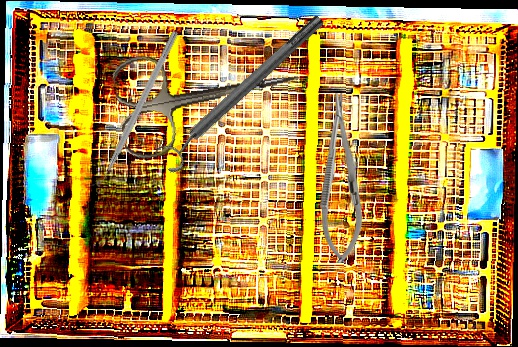Chopper: (85, 25, 180, 194)
Fixation Ring: (151, 7, 333, 177)
Iris Scissors: (110, 29, 308, 162)
Needle Holder: (318, 92, 364, 264)
